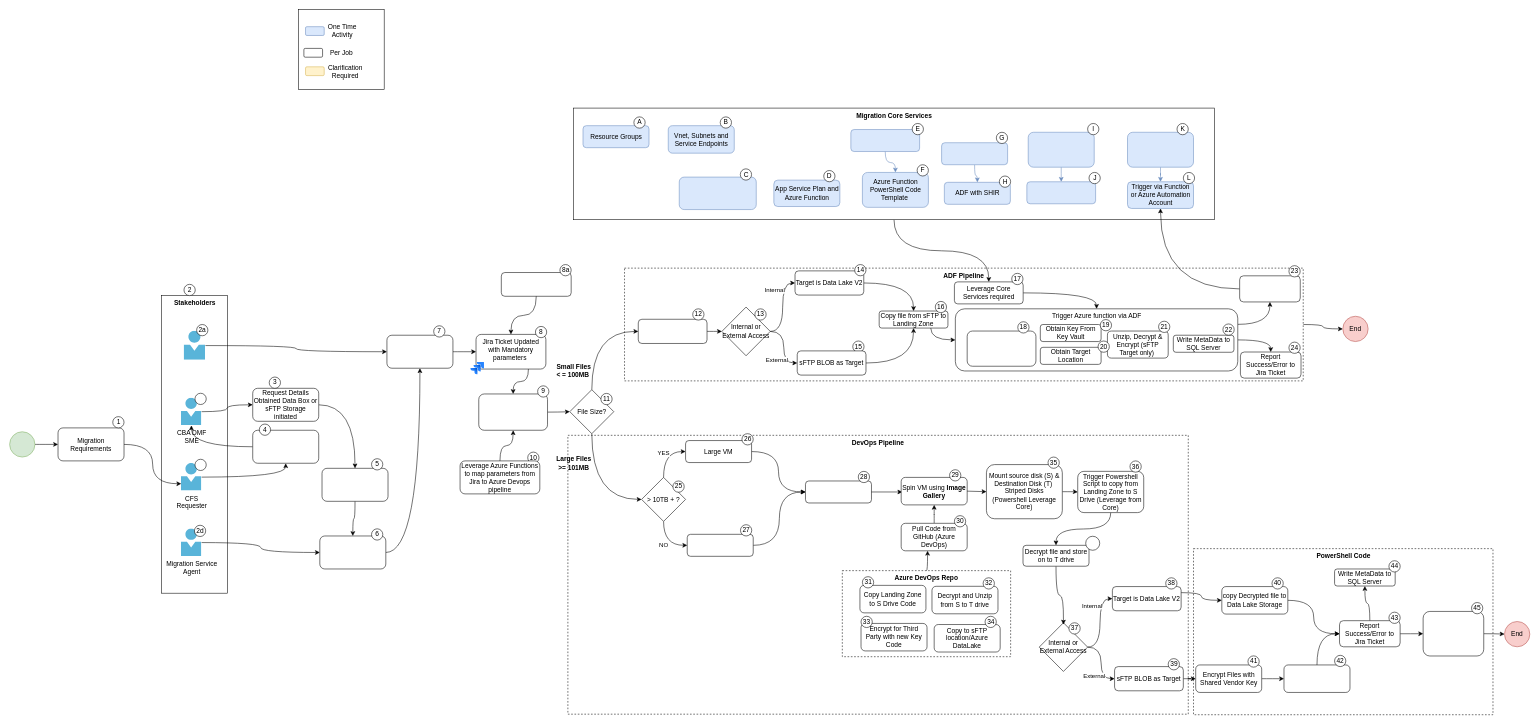
Image size: 1539x724. Some labels were removed from this diagram. The shapes that lost their labels are listed below. From the top down, each one's centre as x and y in pixels, then its label:
the point at 885,140: Key Vault
the point at 974,153: Spin Small VM using Image Gallery
the point at 1061,149: Azure Function to Feed Run Logs to SQL Server
the point at 1160,149: VM Start/Shutdown Automation Code
the point at 717,193: Data Lake Storage account Gen2 and private endpoints
the point at 1061,192: SQL Server (For Meta Data Store)
the point at 536,284: SFTP Endpoint Details for third party access
the point at 1269,288: Trigger SHIR VM Status change
the point at 194,345: CFS CC Approver
the point at 419,351: Approval Obtained from CC Owner
the point at 672,331: Validate Parameters Requirements based on values from Jira
the point at 1001,348: Read File from Landing Zone
the point at 200,399: 2b
the point at 513,411: Hourly ADF/DevOps Job Assessing Jira Ticket Pool (Open/Approved)
the point at 22,444: START
the point at 285,446: Initiates the request
the point at 200,465: 2c
the point at 354,484: Details Provided to CFS Requester
the point at 838,491: Leverage Existing DM Resource Group
the point at 352,552: Migration Agent Raises the Jira Ticket
the point at 720,545: Small VM
the point at 1092,543: 36a
the point at 1453,633: Trigger VM Status change to shutdown, followed by manual terminattion
the point at 1316,678: Copy to sFTP Data Lake Storage
